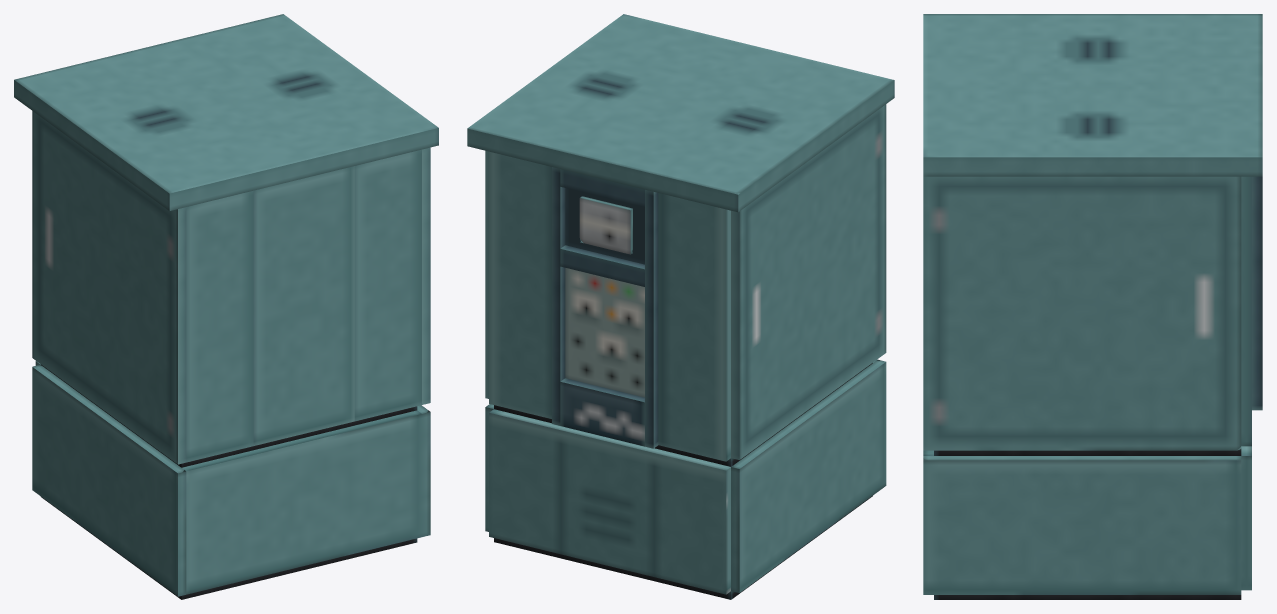
Rendered from era2_drum_computer.obj.
3 renders of one model, left to right at view 1: azimuth 30°, elevation 25°; view 2: azimuth 150°, elevation 25°; view 3: azimuth 270°, elevation 25°, orthographic. The views are drawn at different scales.
Visible parts, largest first — view 1: era2_drum_computer; view 2: era2_drum_computer; view 3: era2_drum_computer.
Part boxes in pixels (x1,y1,x2,y2): era2_drum_computer: [14, 14, 438, 599]; era2_drum_computer: [467, 14, 894, 599]; era2_drum_computer: [923, 14, 1262, 599].
Bounding box in the file's own units: 2 × 2.94 × 2.
